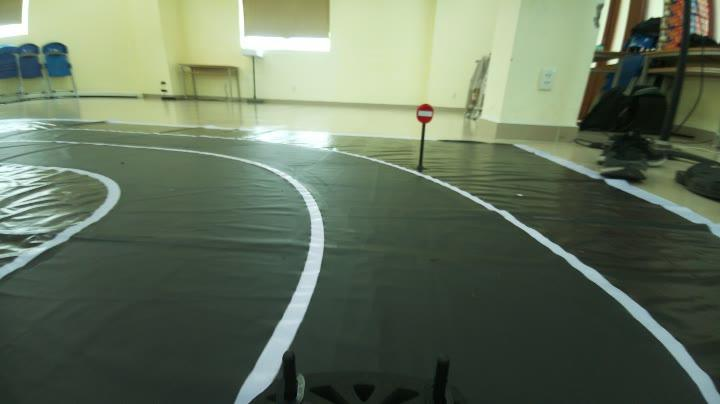no_entry: (415, 97, 436, 128)
